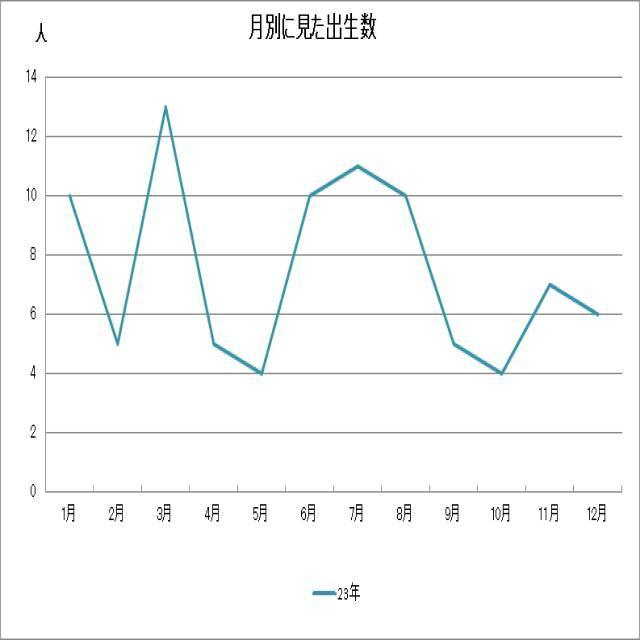axis: (38, 64, 54, 501), (38, 485, 640, 496)
line: (64, 93, 602, 381)
